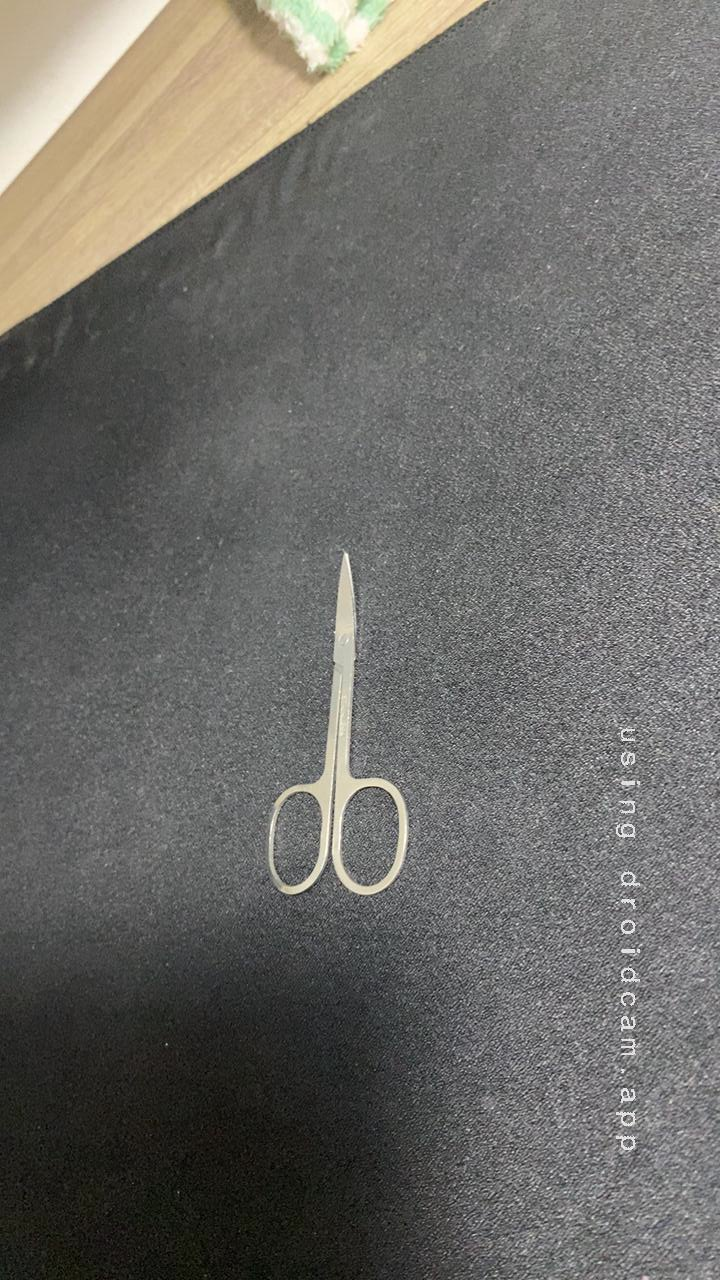scissor: (230, 550, 433, 918)
